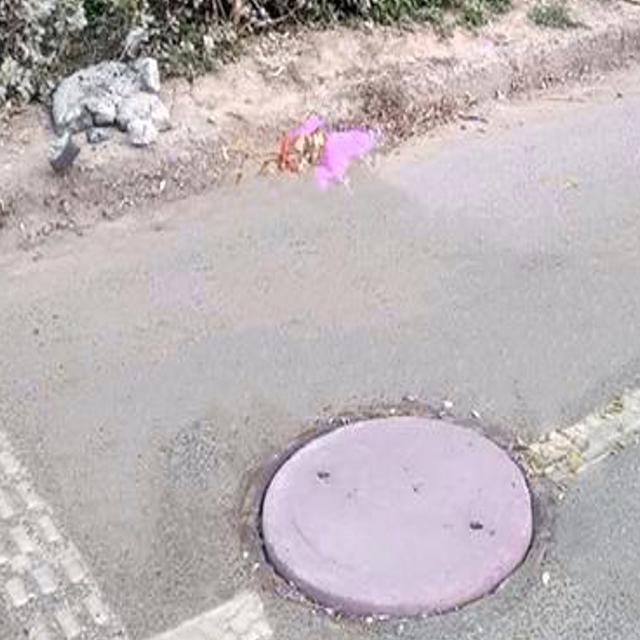good: (208, 380, 567, 640)
